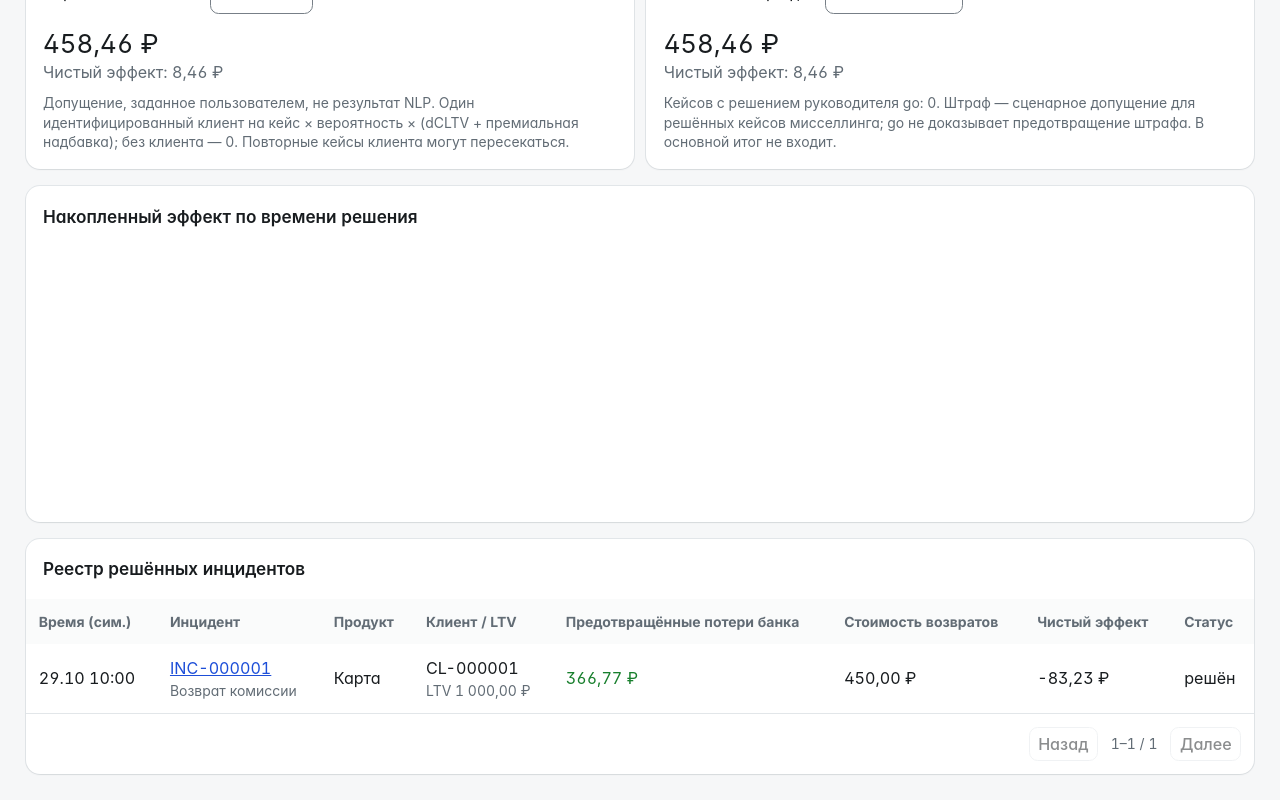
Test: сравнивает три варианта, показывает отрицательный net и открывает формулу
(page scrolled)
Expected: the text "решён" is shown, [1171,644,1254,713]
Click the button "INC-000001": (221, 669) [170,657,271,681]
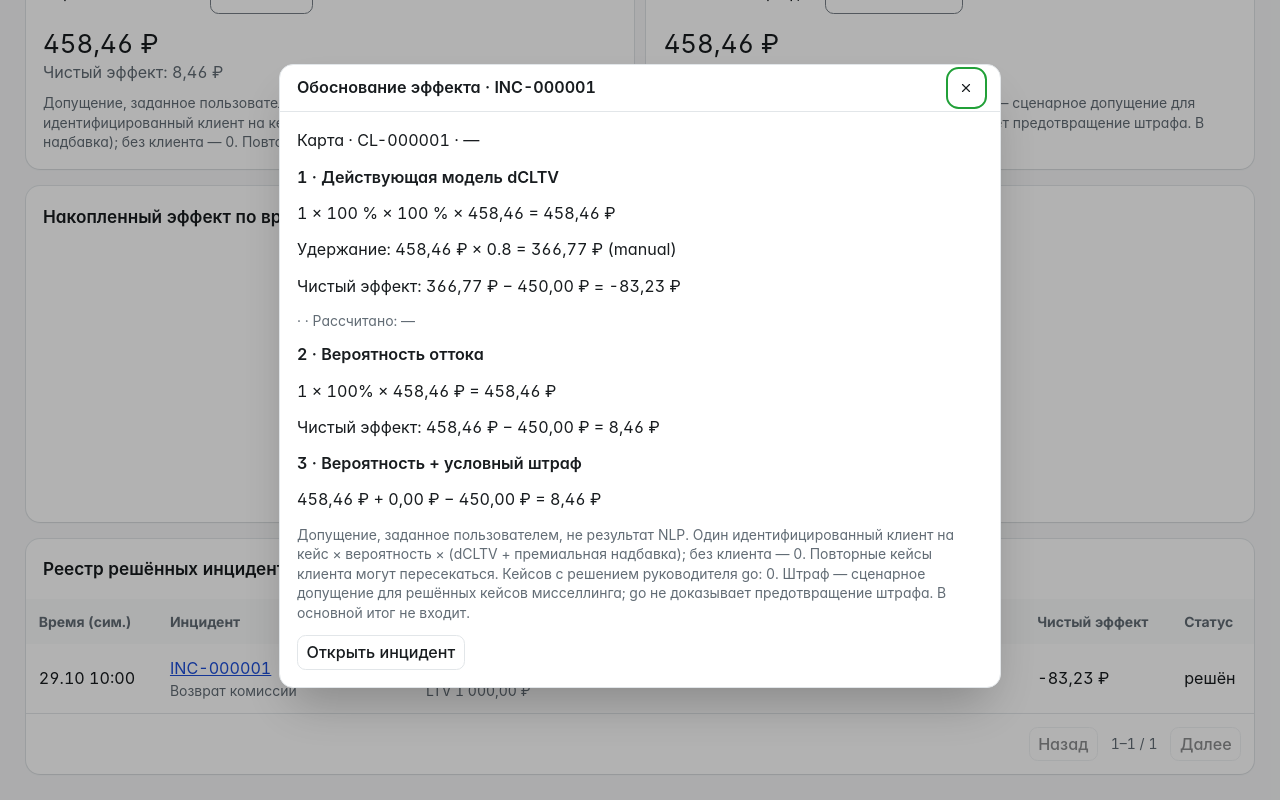
Expected: the text "1 × 100 % × 100 % × 458,46 = 458,46 ₽" is shown, [297,203,616,223]
